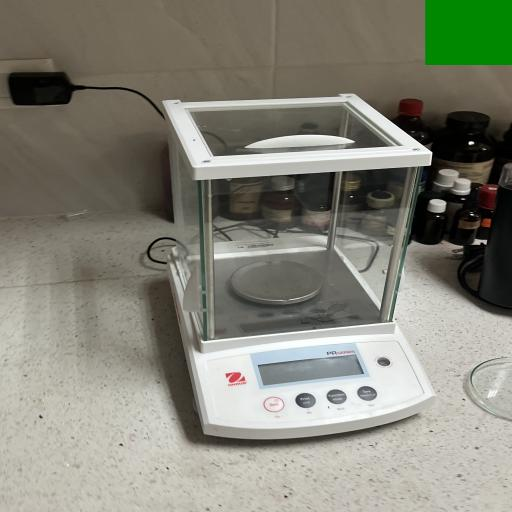Balanza_Analitica_Ohaus: (152, 83, 448, 455)
